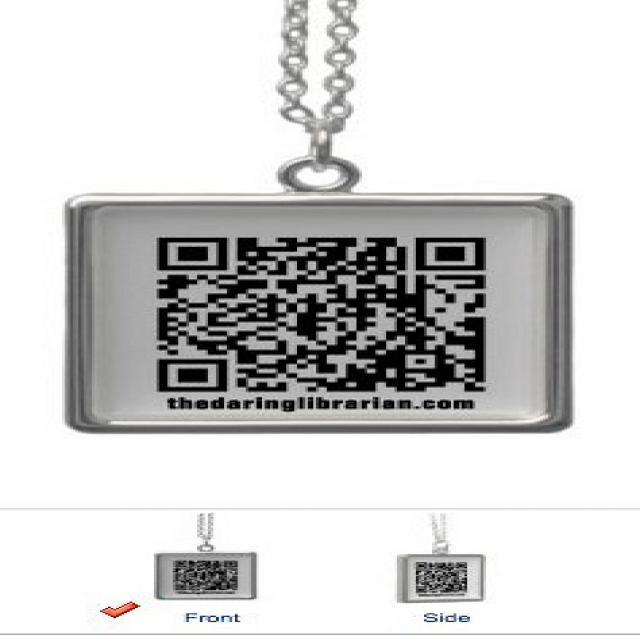qr_code: (157, 236, 486, 393), (173, 560, 238, 591), (416, 561, 464, 595)
